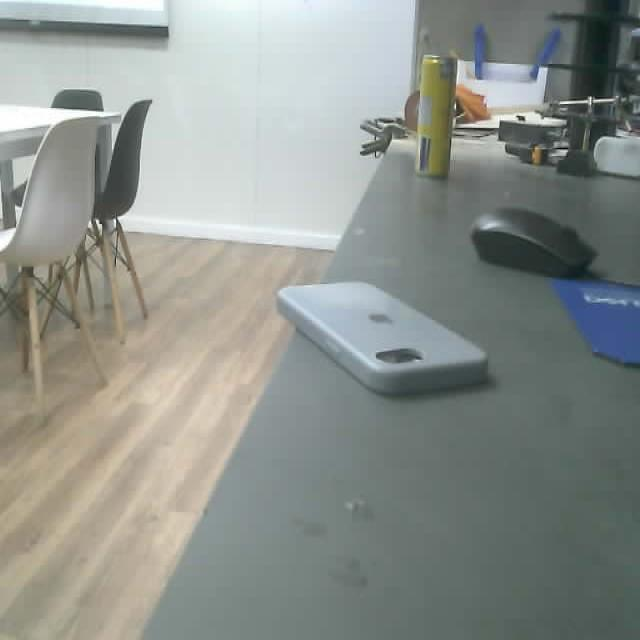phone: (276, 283, 488, 396)
